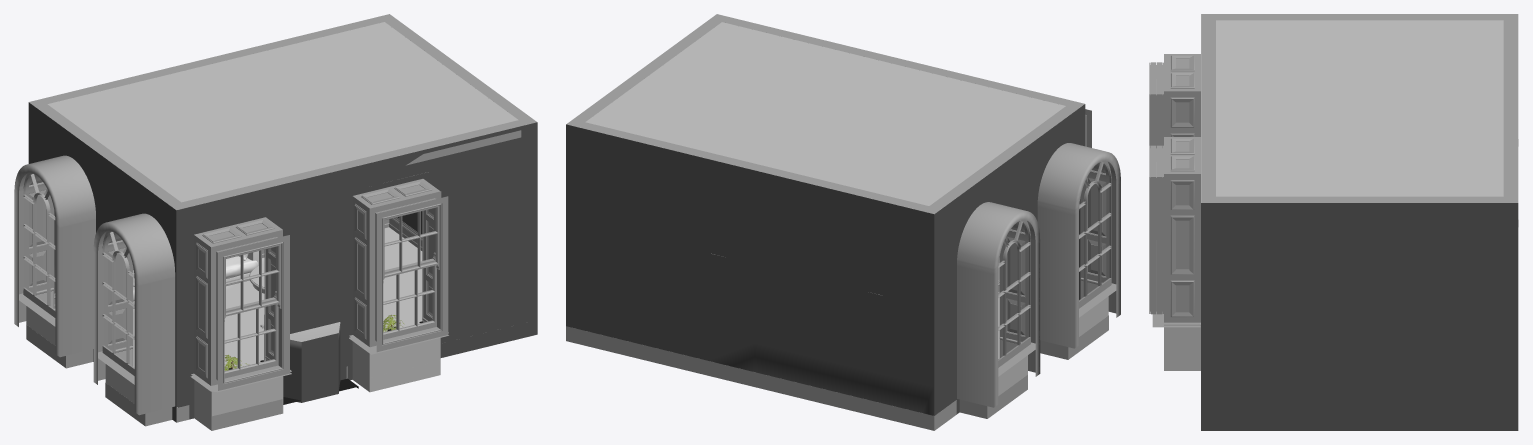
File: grey_and_white_room.fbx
3 views of the same model, side by side, from view 1: azimuth 30°, elevation 25°; view 2: azimuth 150°, elevation 25°; view 3: azimuth 270°, elevation 25° (orthographic). The views are drawn at different scales.
Parts seen in each view (by area): view 1: grey_and_white_room:polySurface1; view 2: grey_and_white_room:polySurface1; view 3: grey_and_white_room:polySurface1.
Part boxes in pixels (x1,y1,x2,y2): grey_and_white_room:polySurface1: [14, 14, 537, 430]; grey_and_white_room:polySurface1: [566, 14, 1120, 430]; grey_and_white_room:polySurface1: [1149, 14, 1518, 430].
Size of the model in its own units: 5.64 by 2.88 by 4.23.
